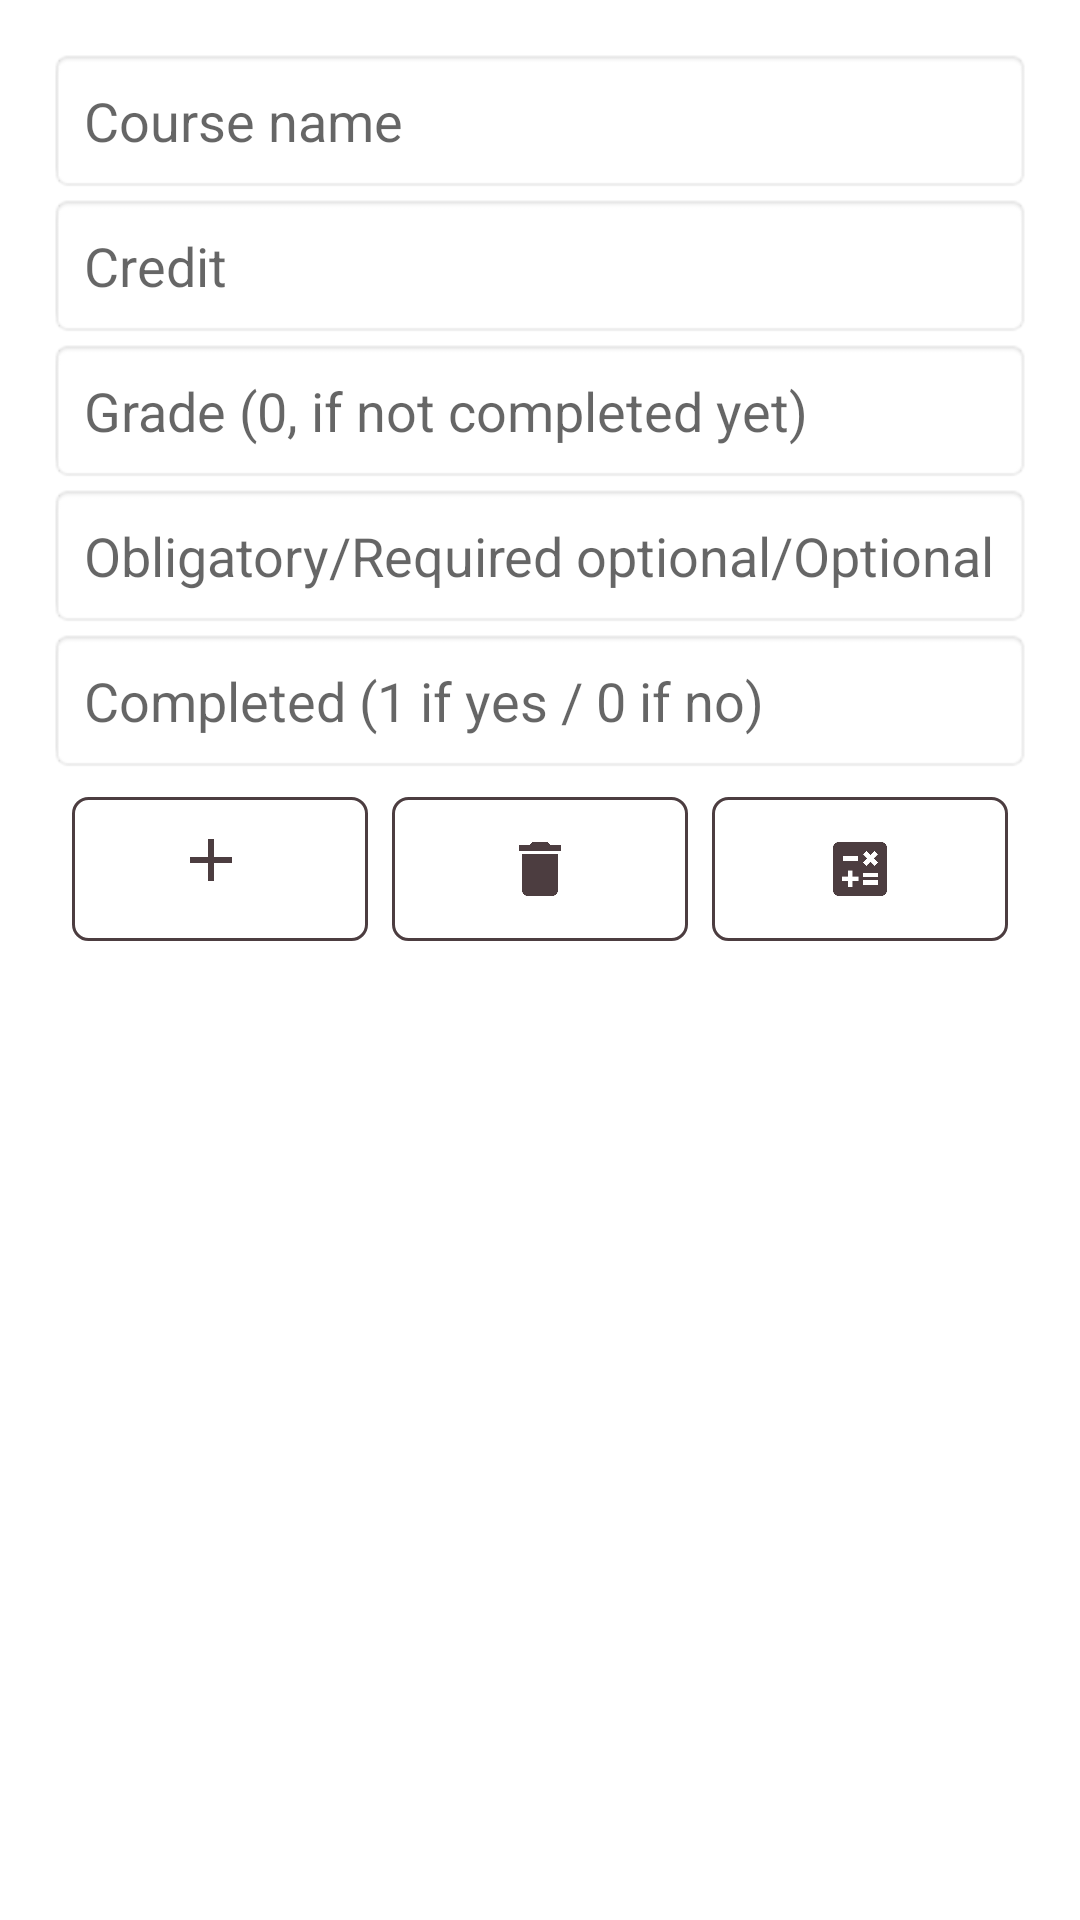

Point at icon controls on the screen. Image size 1080 x 1920, points as (x=x, y=y).
add: (x=220, y=869)
calculate: (x=860, y=869)
delete: (x=540, y=869)
